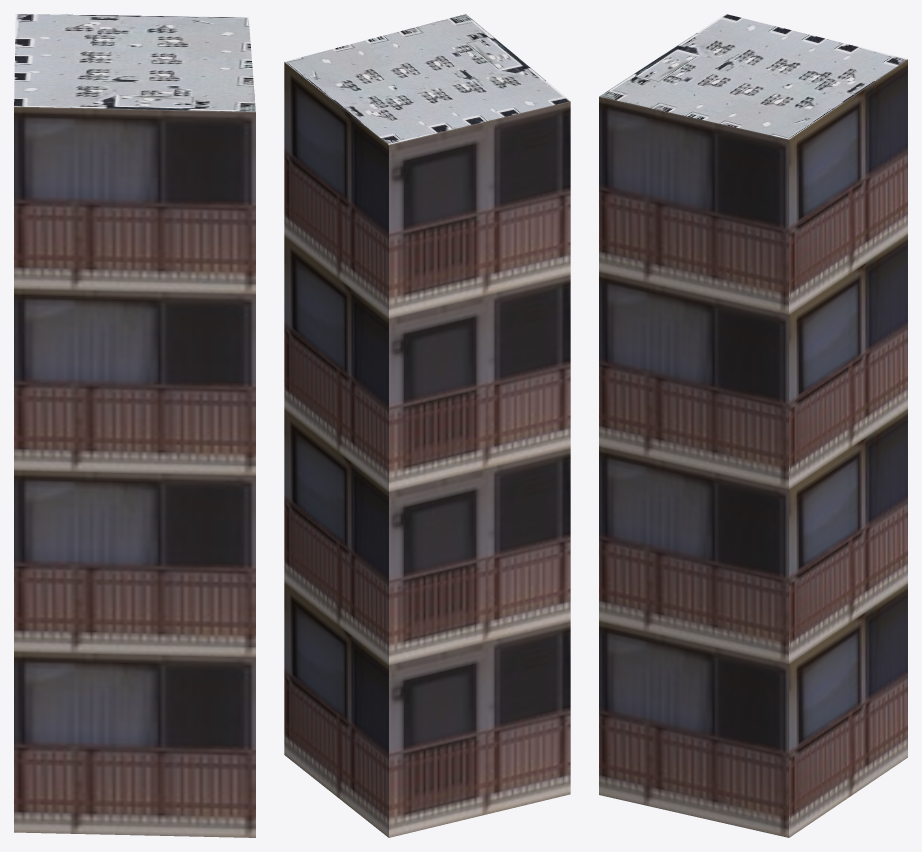
Rendered from ResTex__4870.fbx.
3 renders of one model, left to right at view 1: azimuth 30°, elevation 25°; view 2: azimuth 150°, elevation 25°; view 3: azimuth 270°, elevation 25°, orthographic. The views are drawn at different scales.
Parts seen in each view (by area): view 1: CityEngineMaterial_6_m, CityEngineMaterial_4_m; view 2: CityEngineMaterial_6_m, CityEngineMaterial_4_m; view 3: CityEngineMaterial_6_m, CityEngineMaterial_4_m.
Part boxes in pixels (x1,y1,x2,y2): CityEngineMaterial_6_m: (14,106,255,837); CityEngineMaterial_4_m: (14,14,255,111); CityEngineMaterial_6_m: (284,62,570,837); CityEngineMaterial_4_m: (284,14,570,144); CityEngineMaterial_6_m: (599,59,907,837); CityEngineMaterial_4_m: (599,14,907,139).
Bounding box in the file's own units: 4.62 × 12 × 4.81.
Materials: 2 (2 with a texture image).
